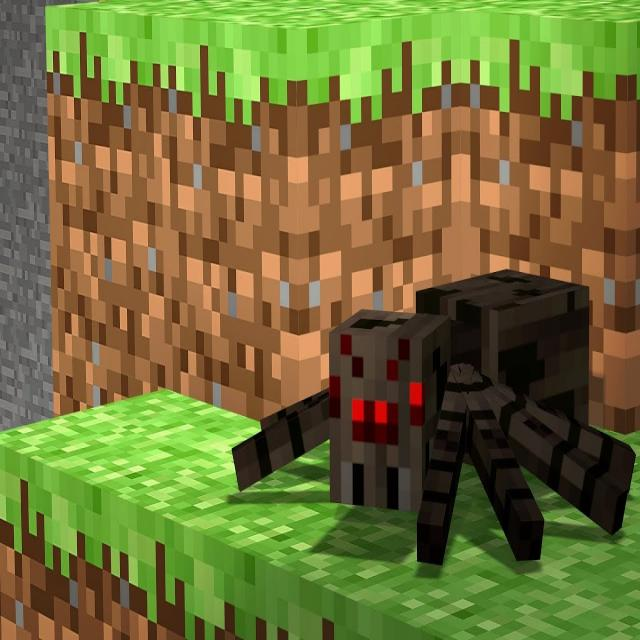Spider: (229, 267, 635, 564)
